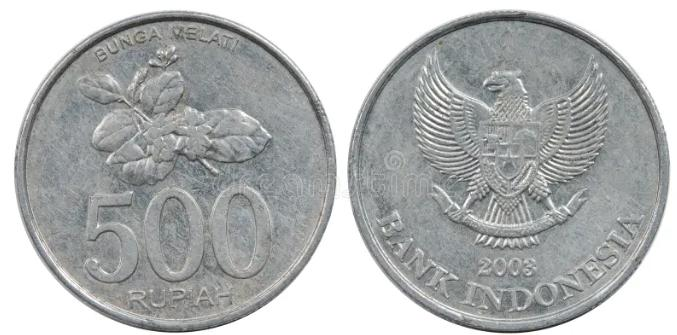coin_500_e2003: (346, 8, 671, 335), (12, 10, 339, 333)
